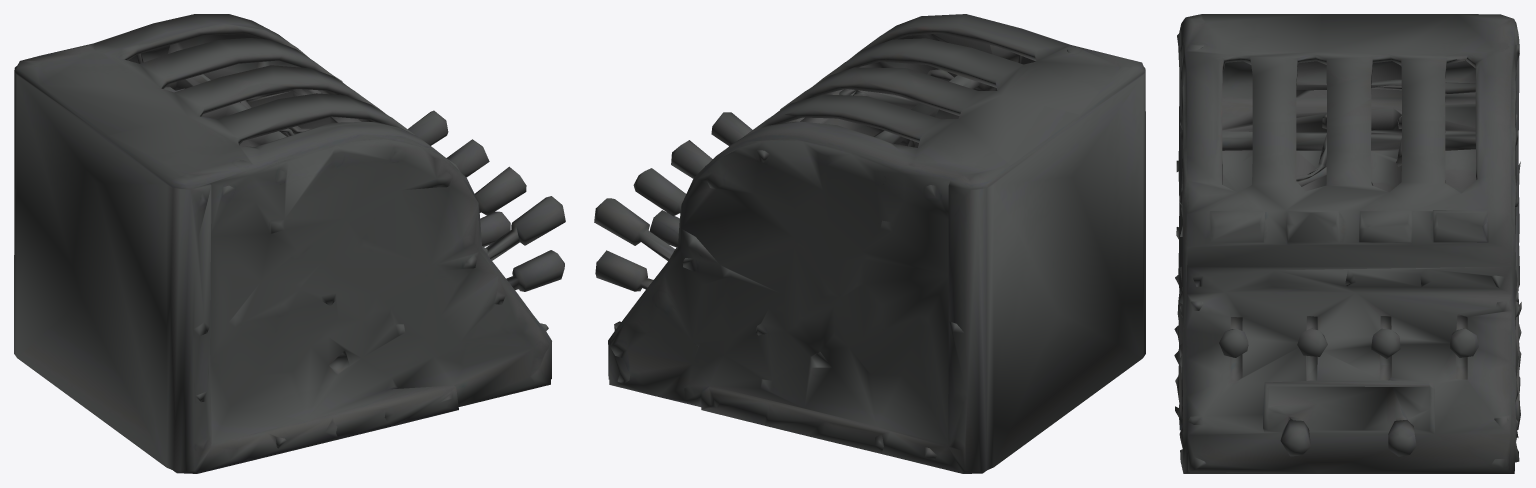
The model's file is ck_quadrant2.glb.
3 renders of one model, left to right at view 1: azimuth 30°, elevation 25°; view 2: azimuth 150°, elevation 25°; view 3: azimuth 270°, elevation 25°, orthographic. The views are drawn at different scales.
Visible parts, largest first — view 1: tripo_node_7e78d3f0-1a60-4456-88c2-f367e23e3bd8; view 2: tripo_node_7e78d3f0-1a60-4456-88c2-f367e23e3bd8; view 3: tripo_node_7e78d3f0-1a60-4456-88c2-f367e23e3bd8.
Part boxes in pixels (left/top/right/bottom): tripo_node_7e78d3f0-1a60-4456-88c2-f367e23e3bd8: left=14, top=14, right=565, bottom=473; tripo_node_7e78d3f0-1a60-4456-88c2-f367e23e3bd8: left=594, top=14, right=1145, bottom=473; tripo_node_7e78d3f0-1a60-4456-88c2-f367e23e3bd8: left=1174, top=14, right=1521, bottom=473.
Size of the model in its own units: 1 by 0.641 by 0.694.
Materials: 1 (1 with a texture image).
